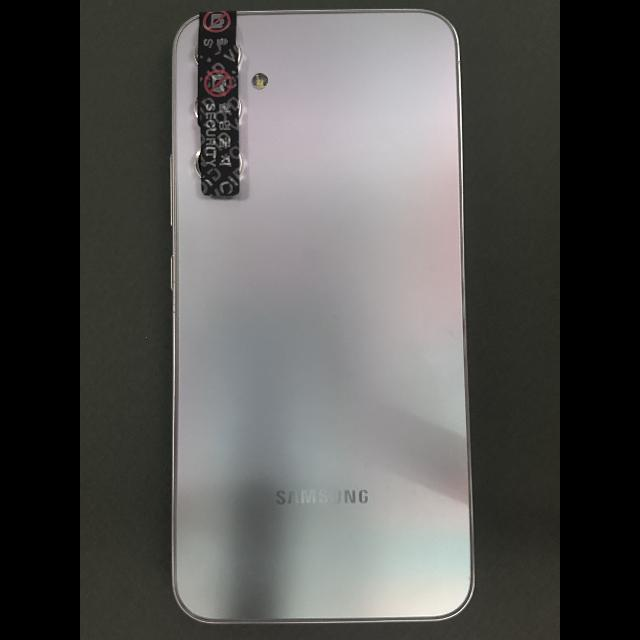lens: (194, 148, 202, 178), (193, 43, 198, 65), (194, 97, 198, 118)
phone: (171, 8, 476, 624)
sticker: (200, 45, 240, 196), (197, 10, 237, 127)
